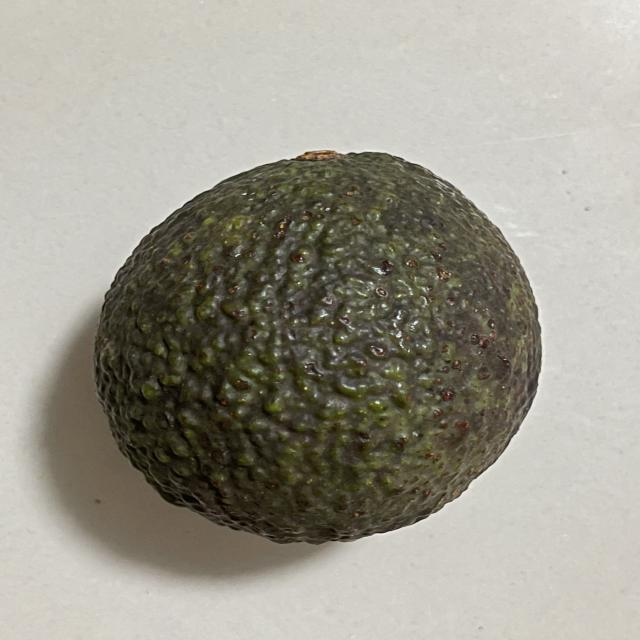avocado: (78, 132, 563, 553)
